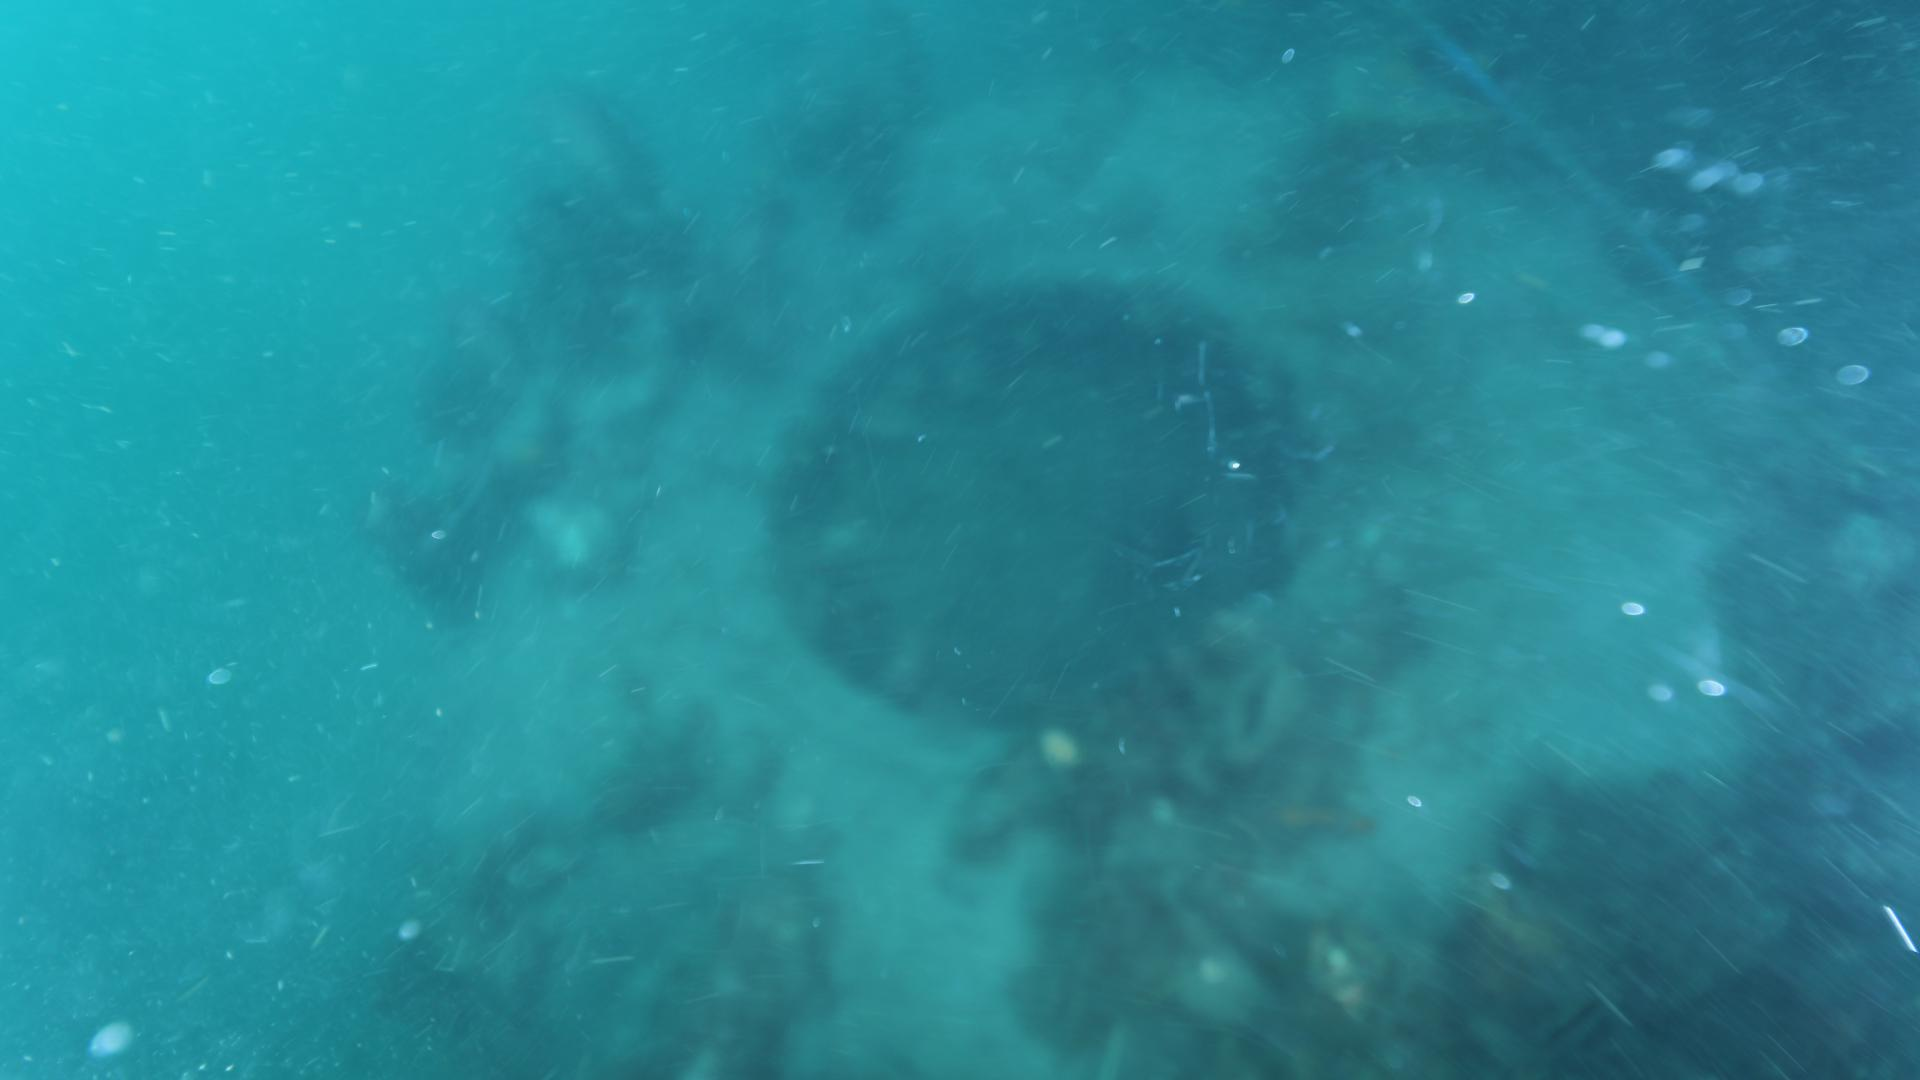tire: (422, 91, 1750, 1080)
